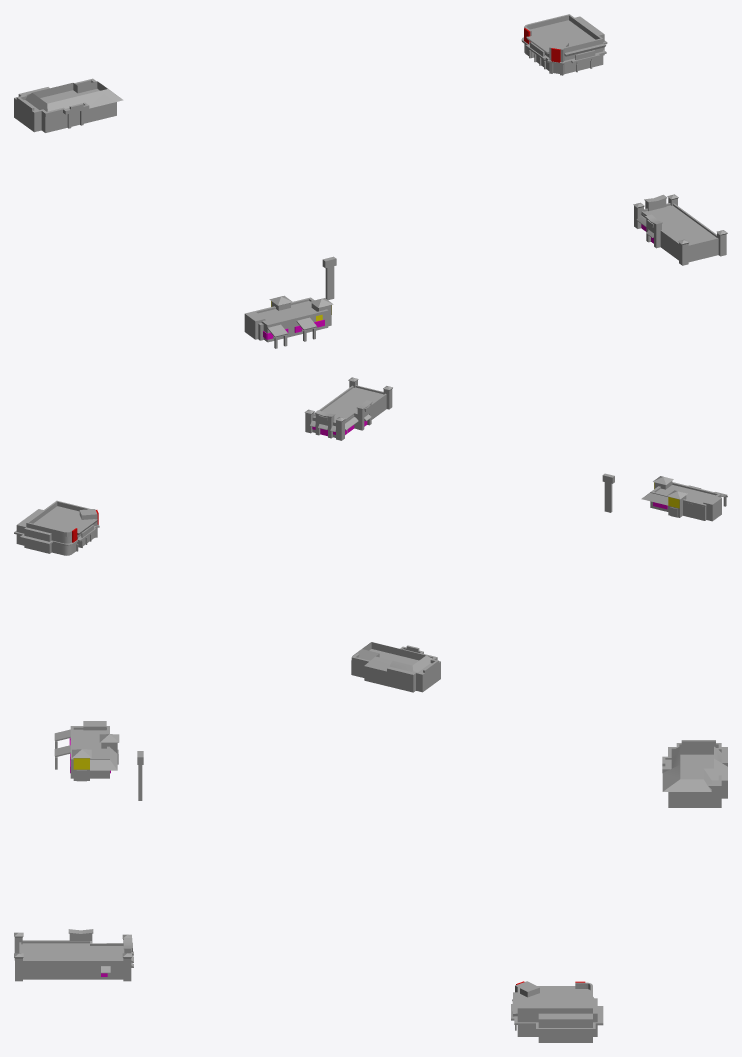
Rendered from Resturants.fbx.
The picture shows the model from 3 angles, top to bottom: view 1: azimuth 30°, elevation 25°; view 2: azimuth 150°, elevation 25°; view 3: azimuth 270°, elevation 25°; orthographic projection. The views are drawn at different scales.
Visible parts, largest first — view 1: pCube493, pCube561, pCube533, pCube566, pCube468, pCube540, pCube567, pCube545; view 2: pCube561, pCube533, pCube493, pCube566, pCube468, pCube567, pCube540, pCube535; view 3: pCube493, pCube561, pCube566, pCube533, pCube534, pCube468, pCube540, pCube567, pCube513, pCube545.
Part boxes in pixels (bbox=[...]): pCube493: bbox=[641, 205, 718, 262]; pCube561: bbox=[14, 88, 116, 132]; pCube533: bbox=[524, 20, 603, 74]; pCube566: bbox=[25, 81, 123, 111]; pCube468: bbox=[258, 301, 328, 342]; pCube540: bbox=[524, 14, 603, 52]; pCube567: bbox=[14, 78, 96, 116]; pCube545: bbox=[521, 36, 607, 63]; pCube561: bbox=[351, 649, 440, 692]; pCube533: bbox=[33, 506, 94, 555]; pCube493: bbox=[312, 387, 386, 437]; pCube566: bbox=[352, 642, 432, 672]; pCube468: bbox=[650, 485, 720, 520]; pCube567: bbox=[351, 645, 440, 677]; pCube540: bbox=[26, 500, 90, 536]; pCube535: bbox=[24, 527, 51, 553]; pCube493: bbox=[21, 943, 124, 979]; pCube561: bbox=[668, 748, 727, 807]; pCube566: bbox=[662, 746, 727, 791]; pCube533: bbox=[517, 988, 590, 1036]; pCube534: bbox=[538, 1013, 592, 1042]; pCube468: bbox=[70, 729, 109, 778]; pCube540: bbox=[517, 982, 592, 1013]; pCube567: bbox=[662, 740, 727, 789]; pCube513: bbox=[19, 940, 123, 962]; pCube545: bbox=[511, 986, 603, 1030].
Size of the model in its own units: 224 by 15.43 by 224.
